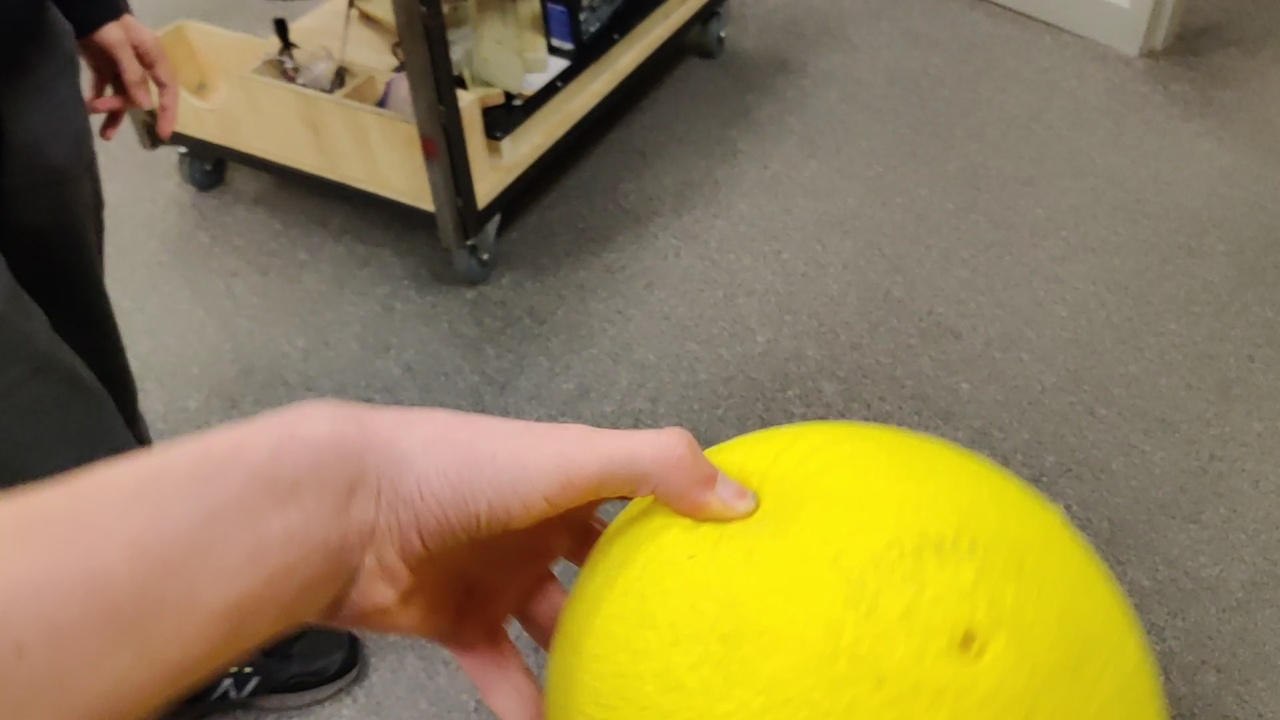Ball: (534, 420, 1172, 720)
